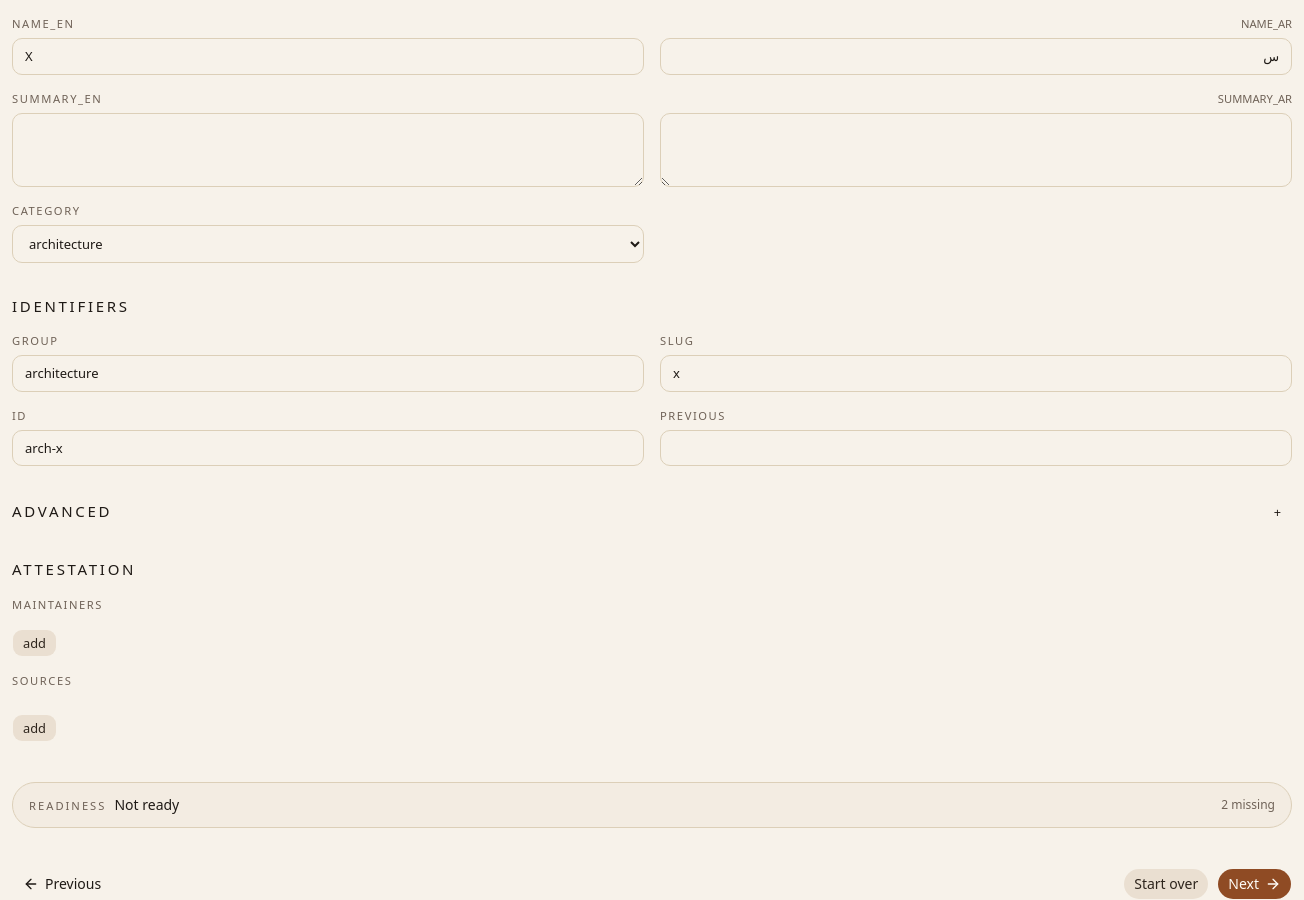
Test: ContributorWizard › renders the delete warning when navigating to the content step with action=delete
The width and height of the screenshot is (1304, 900).
(page scrolled)
# Navigate from metadata to content to surface the danger notice.
What coordinates should you click on to do the following:
click the button "Next"
I would click on:
 (1255, 884)
Its box is left=1217, top=868, right=1292, bottom=899.
(page scrolled)
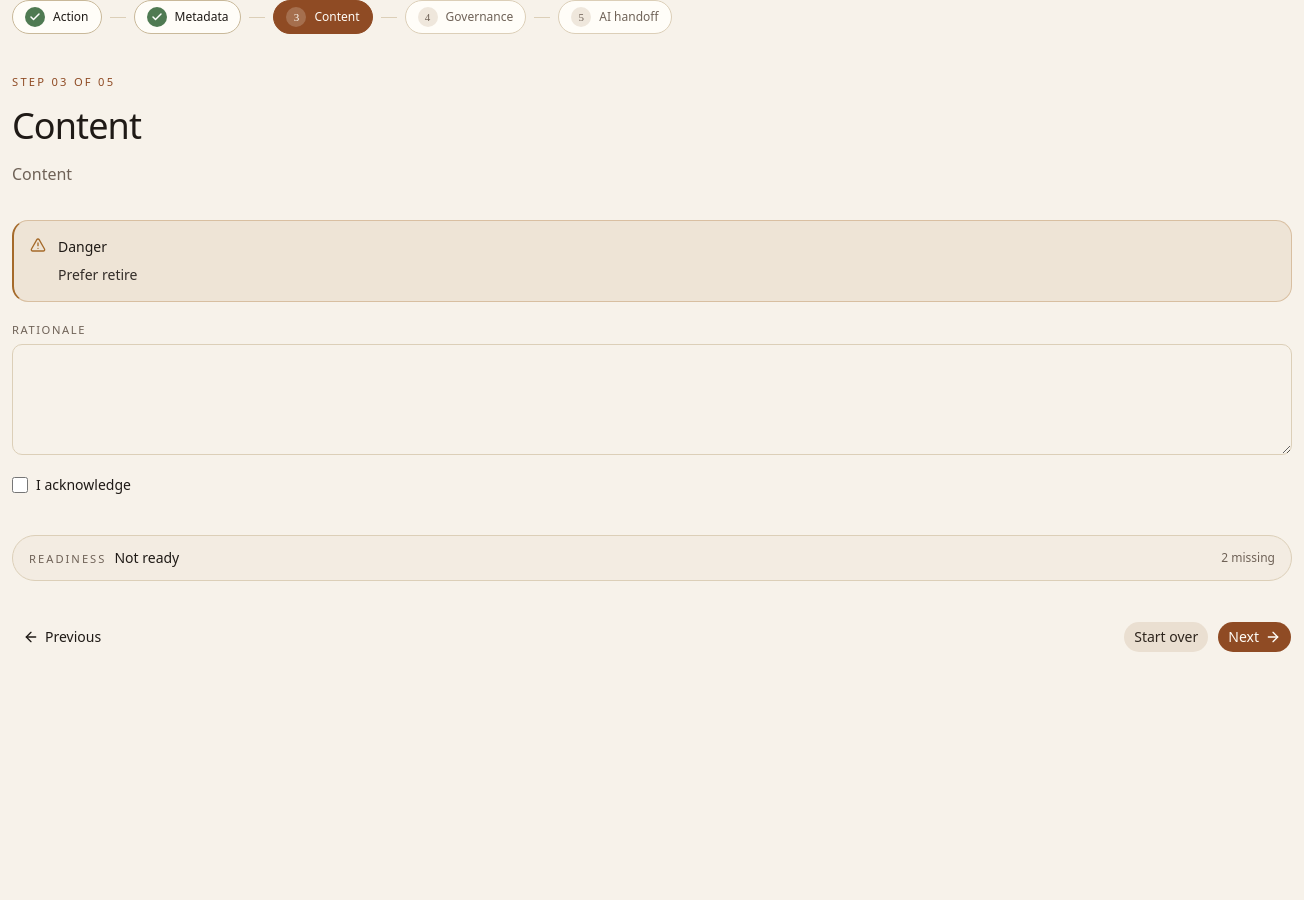
Expected: the text "Danger" is shown, left=58, top=237, right=107, bottom=256
Expected: the text "Prefer retire" is shown, left=58, top=265, right=138, bottom=284
